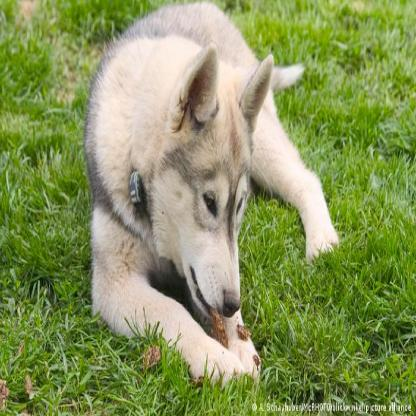dog: (84, 2, 339, 380)
